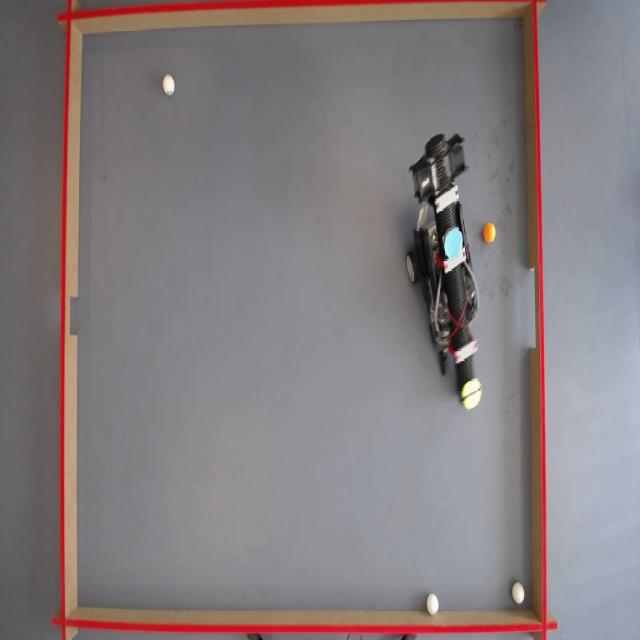orange: (485, 226, 498, 244)
robot: (406, 138, 484, 410)
robot-front: (463, 378, 481, 410)
robot-rear: (444, 227, 466, 262)
white: (513, 584, 527, 606), (426, 593, 440, 615), (164, 74, 176, 95)
